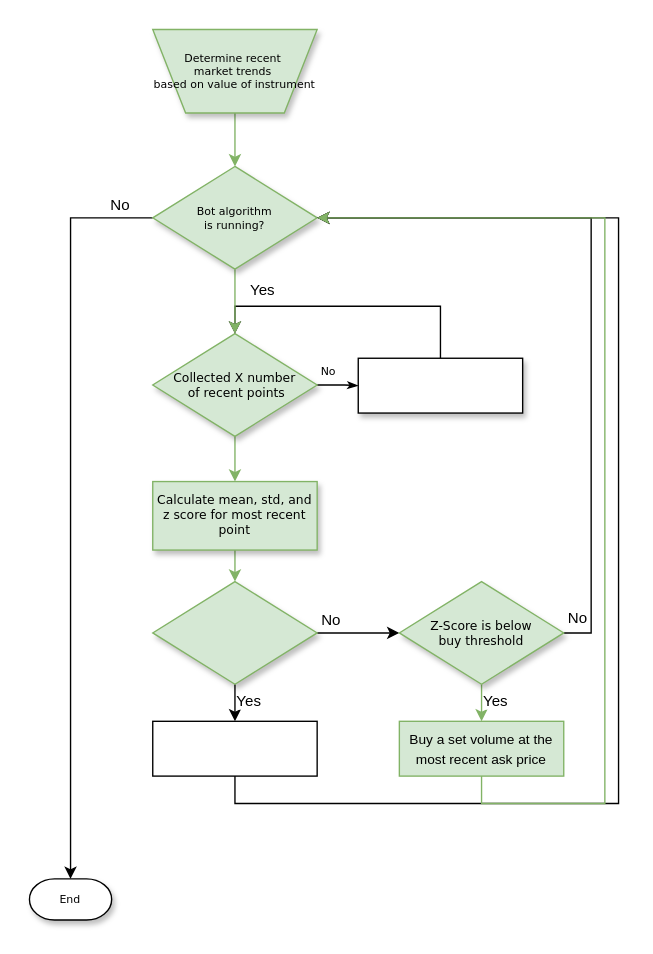
Some shapes in this 653 by 954 pixel diagram are drawn without their labels. Here are the shapes that lost their labels. From the top down, the centre of each, then its label:
the point at 441,387: Add recent point to collection
the point at 235,634: Z-Score is above sell threshold
the point at 234,748: Sell a set volume at the most recent bid price
